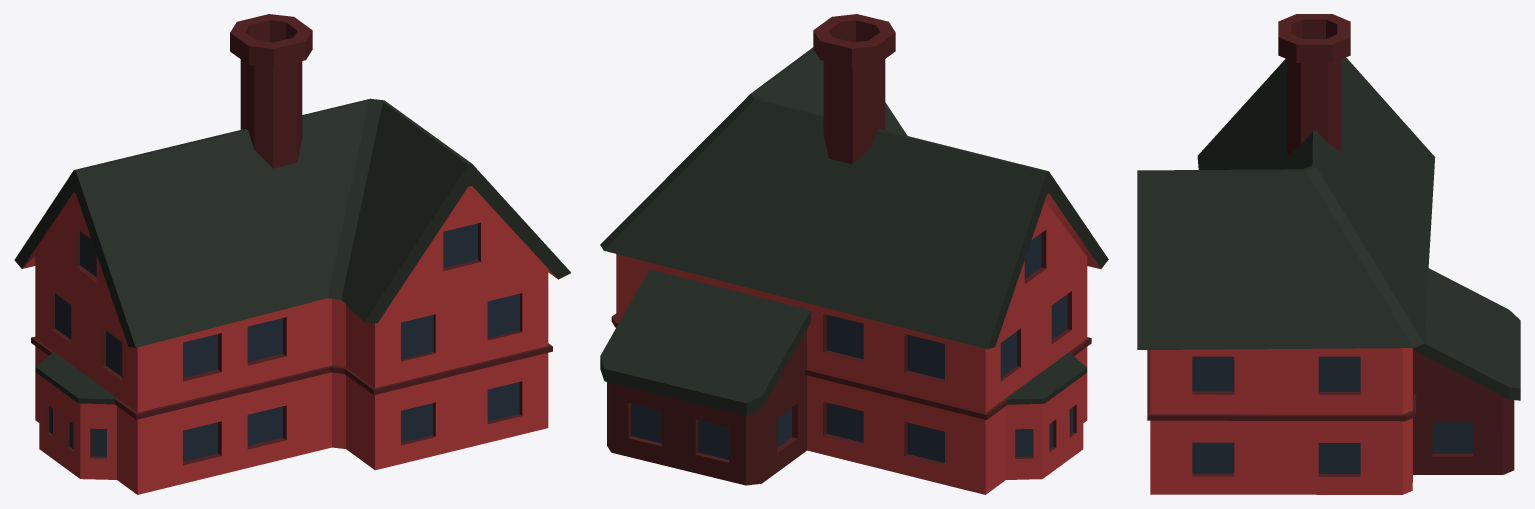
Rendered from SM_Cottage.obj.
3 renders of one model, left to right at view 1: azimuth 30°, elevation 25°; view 2: azimuth 150°, elevation 25°; view 3: azimuth 270°, elevation 25°, orthographic. The views are drawn at different scales.
Visible parts, largest first — view 1: SM_Cottage; view 2: SM_Cottage; view 3: SM_Cottage.
Part boxes in pixels (x1,y1,x2,y2): SM_Cottage: (14, 14, 570, 494); SM_Cottage: (600, 14, 1108, 494); SM_Cottage: (1137, 14, 1520, 494).
Bounding box in the file's own units: 14.55 × 12.58 × 11.7.
